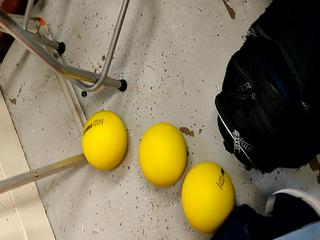power_cell: (77, 107, 134, 178), (178, 160, 234, 231), (135, 116, 191, 187)
